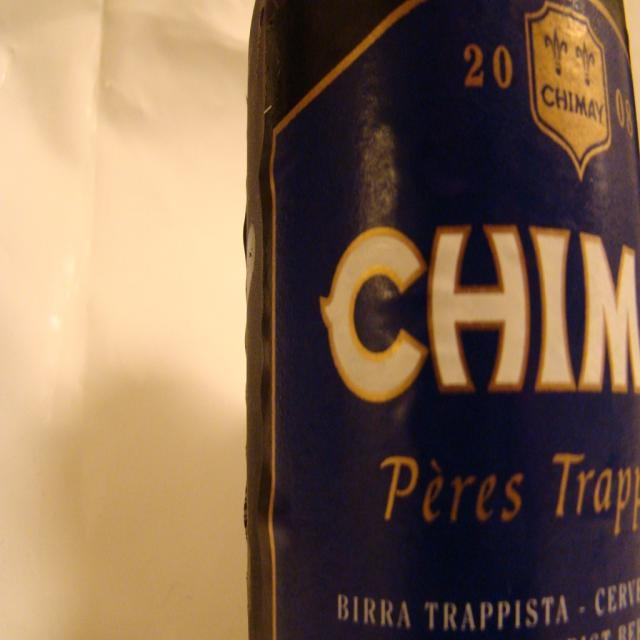chimay: (272, 2, 640, 640)
